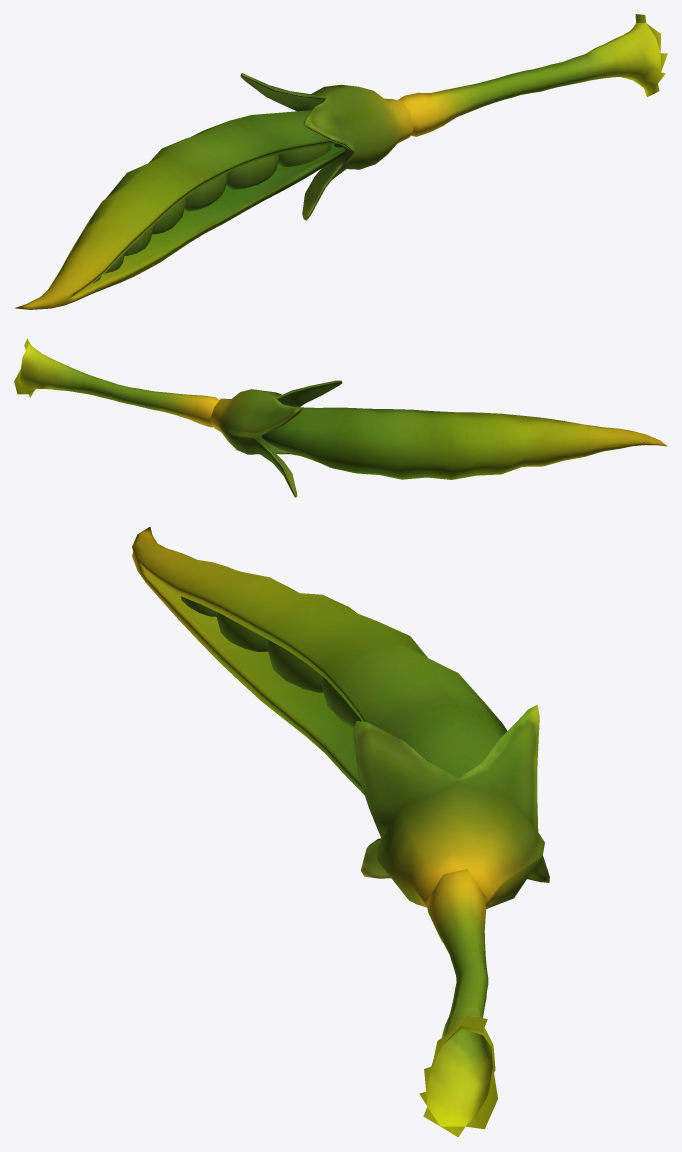
Rendered from peashooter_brazo_der.obj.
3 views of the same model, one above another, from view 1: azimuth 30°, elevation 25°; view 2: azimuth 150°, elevation 25°; view 3: azimuth 270°, elevation 25° (orthographic). The views are drawn at different scales.
Parts seen in each view (by area): view 1: peashooter_brazo_der; view 2: peashooter_brazo_der; view 3: peashooter_brazo_der.
Boxes of the visible parts, x1,y1,x2,y2 form: peashooter_brazo_der: [14, 14, 667, 309]; peashooter_brazo_der: [14, 338, 667, 497]; peashooter_brazo_der: [132, 527, 549, 1137].
Size of the model in its own units: 1.07 by 0.1577 by 0.3396.
